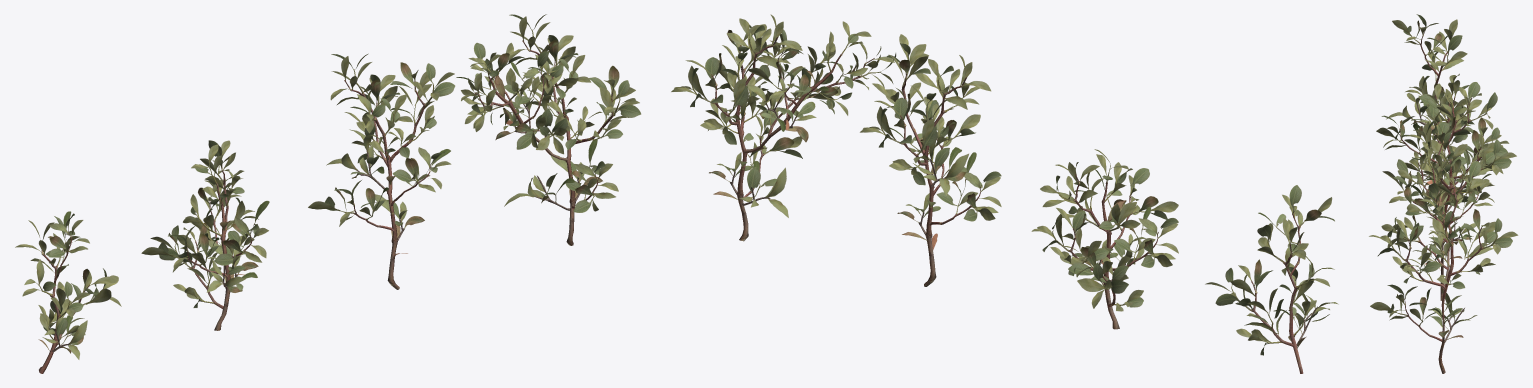
File: polyhaven-shrub-04.glb
3 views of the same model, side by side, from view 1: azimuth 30°, elevation 25°; view 2: azimuth 150°, elevation 25°; view 3: azimuth 270°, elevation 25° (orthographic). The views are drawn at different scales.
Parts seen in each view (by area): view 1: shrub_04_0; view 2: shrub_04_0; view 3: shrub_04_0.
Boxes of the visible parts, left/top/right/bottom form: shrub_04_0: left=15, top=14, right=641, bottom=373; shrub_04_0: left=671, top=14, right=1338, bottom=373; shrub_04_0: left=1369, top=14, right=1518, bottom=373.
Bounding box in the file's own units: 0.5837 × 0.2192 × 0.1461.
Materials: 1 (1 with a texture image).
